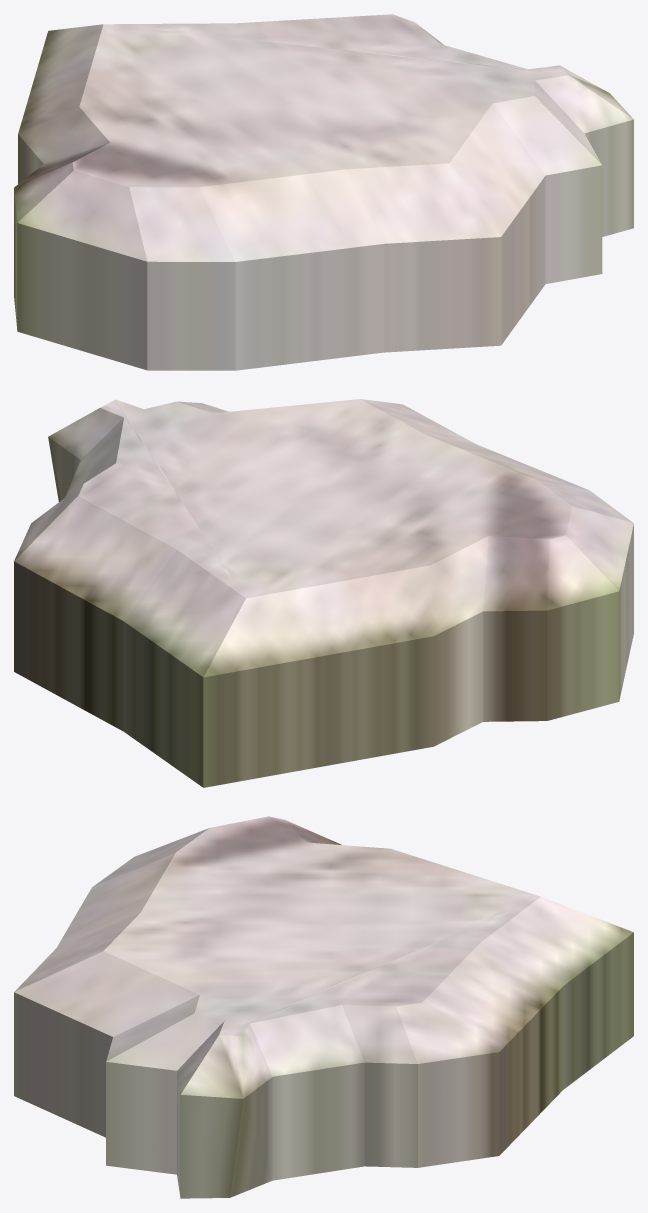
File: stone.25.fbx
3 renders of one model, top to bottom at view 1: azimuth 30°, elevation 25°; view 2: azimuth 150°, elevation 25°; view 3: azimuth 270°, elevation 25°, orthographic. The views are drawn at different scales.
Parts seen in each view (by area): view 1: stone.25; view 2: stone.25; view 3: stone.25.
Part boxes in pixels (bbox=[...]): stone.25: bbox=[14, 14, 633, 370]; stone.25: bbox=[14, 399, 633, 787]; stone.25: bbox=[14, 816, 633, 1198].
Size of the model in its own units: 39.41 by 9.74 by 38.36.
Materials: 1 (1 with a texture image).
